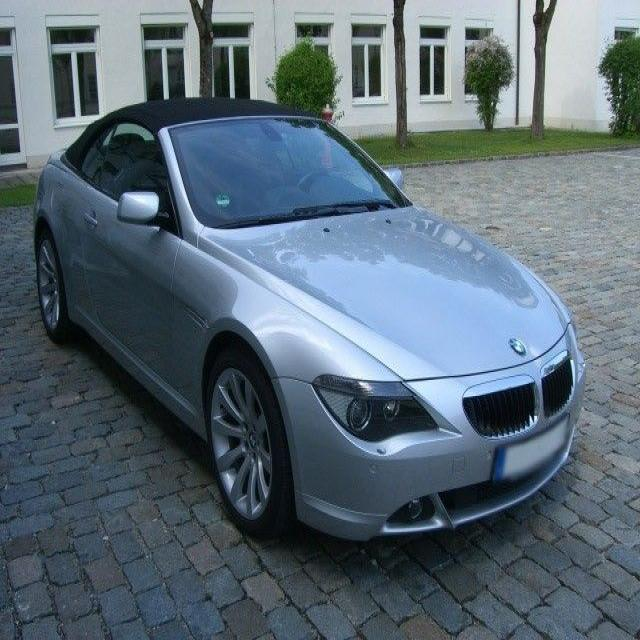car: (21, 92, 589, 544)
